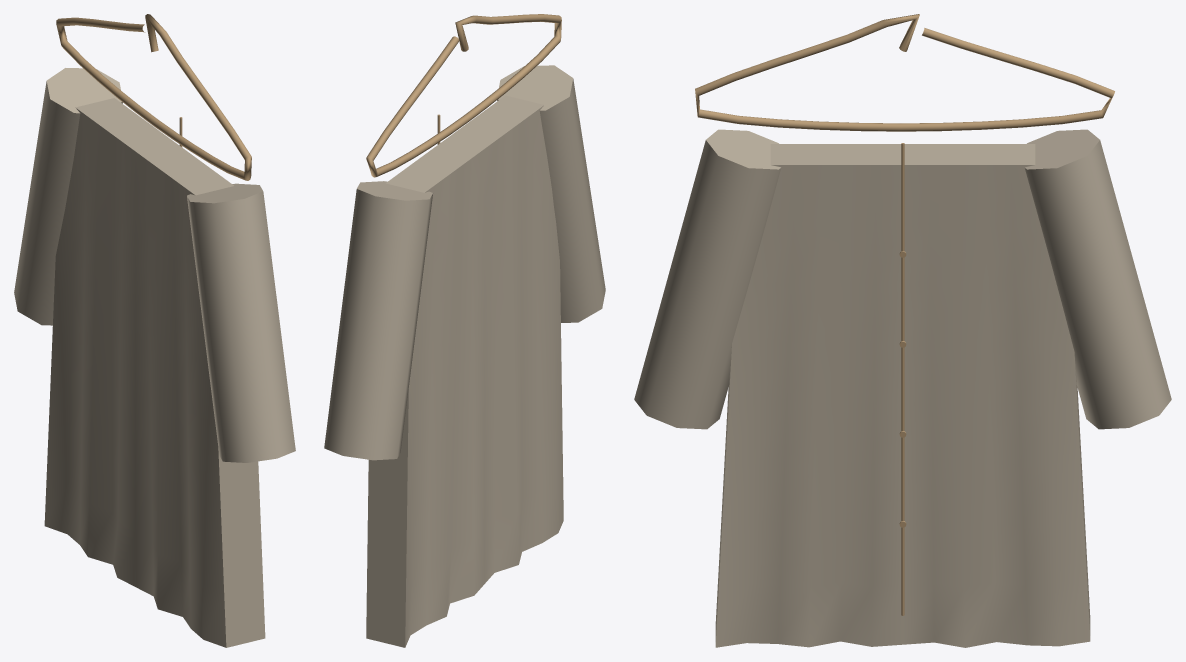
Rendered from shirt-balanced-285e276d04.glb.
3 renders of one model, left to right at view 1: azimuth 30°, elevation 25°; view 2: azimuth 150°, elevation 25°; view 3: azimuth 270°, elevation 25°, orthographic. The views are drawn at different scales.
Parts seen in each view (by area): view 1: textile, oak; view 2: textile, oak; view 3: textile, oak.
Part boxes in pixels (x1,y1,x2,y2): textile: (14,68,295,647); oak: (56,14,251,180); textile: (324,65,605,647); oak: (366,14,561,177); textile: (634,129,1171,647); oak: (695,14,1114,615).
Size of the model in its own units: 0.08 by 0.62 by 0.4876.
